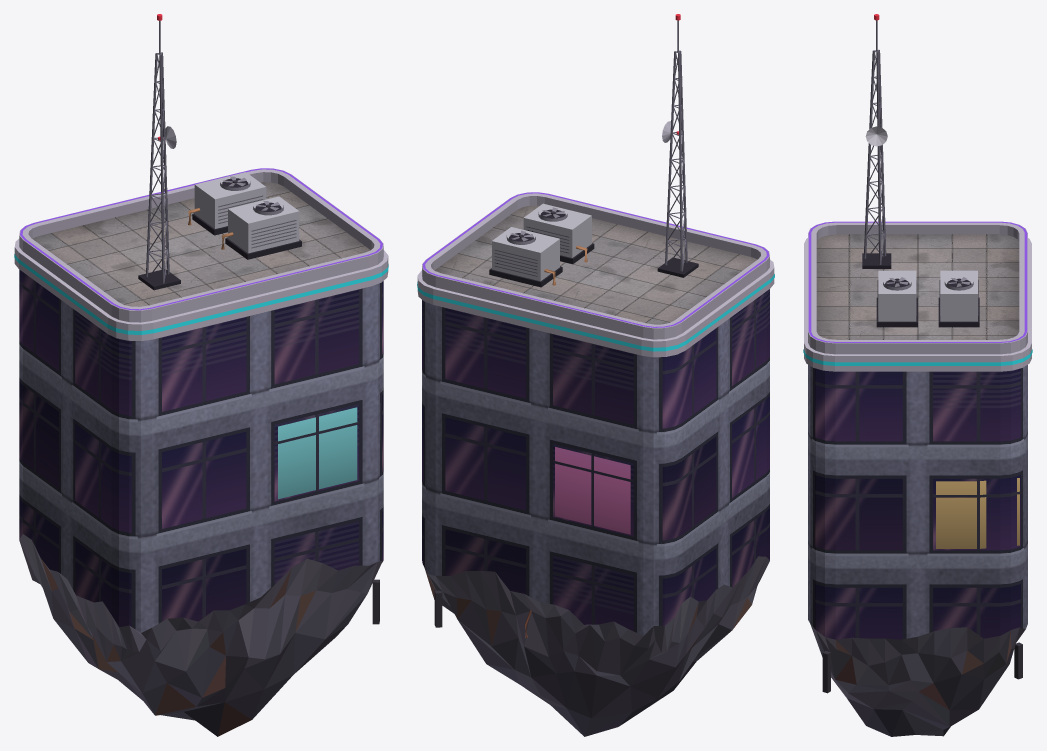
File: islet_2.glb
3 renders of one model, left to right at view 1: azimuth 30°, elevation 25°; view 2: azimuth 150°, elevation 25°; view 3: azimuth 270°, elevation 25°, orthographic. The views are drawn at different scales.
Visible parts, largest first — view 1: Island, Lit_Windows, Neon_2ef2ff, Neon_9b5cff; view 2: Island, Lit_Windows, Neon_2ef2ff, Neon_9b5cff; view 3: Island, Lit_Windows, Neon_9b5cff, Neon_2ef2ff.
Part boxes in pixels (box(x1,y1,x2,y2)): Island: box(14, 20, 388, 736); Lit_Windows: box(278, 407, 357, 499); Neon_2ef2ff: box(14, 254, 388, 334); Neon_9b5cff: box(20, 168, 382, 310); Island: box(417, 20, 774, 736); Lit_Windows: box(555, 447, 630, 534); Neon_2ef2ff: box(417, 274, 774, 351); Neon_9b5cff: box(422, 192, 769, 327); Island: box(804, 20, 1031, 736); Lit_Windows: box(936, 478, 1019, 548); Neon_9b5cff: box(808, 221, 1027, 342); Neon_2ef2ff: box(803, 349, 1032, 365).
Size of the model in its own units: 8.67 by 22.26 by 6.67.
7 materials, 2 textured.
